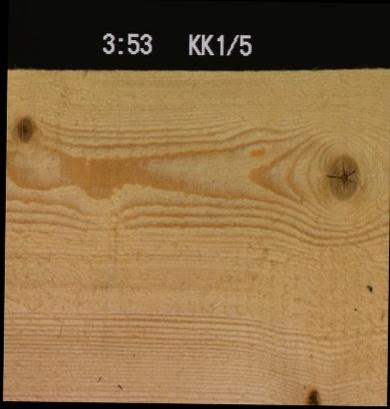edge_knot: (303, 386, 321, 405)
sound_knot: (322, 151, 360, 201), (12, 112, 35, 143)
